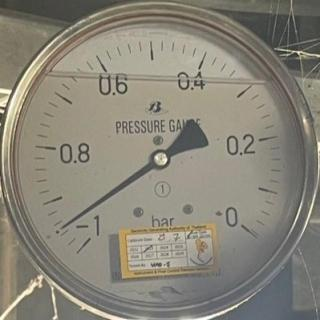gauge: (0, 0, 320, 320), (65, 205, 111, 259), (227, 210, 261, 243), (148, 148, 172, 170), (56, 217, 73, 233)
